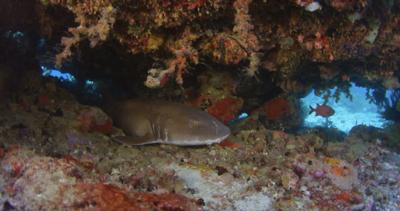Shark -Selachimorpha-: (80, 84, 232, 148)
